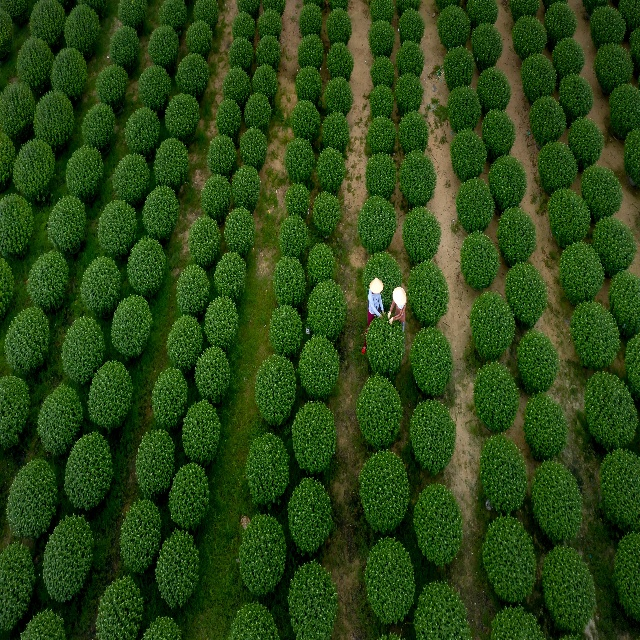Guantes: (387, 311, 392, 320), (389, 317, 393, 325)
